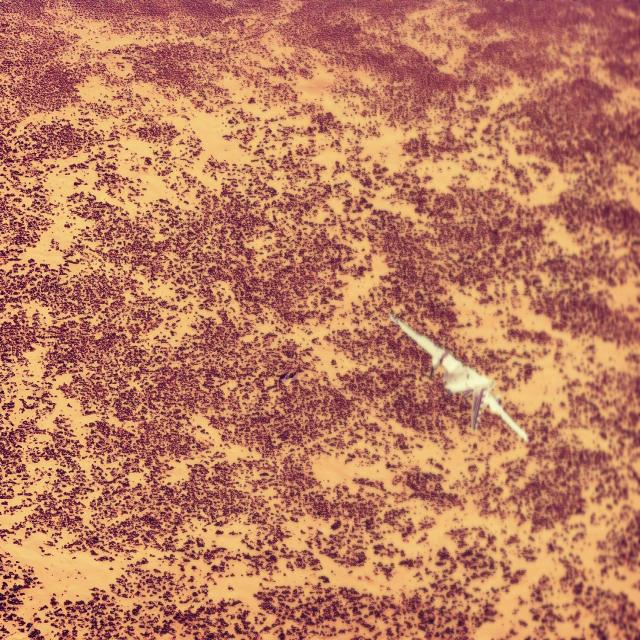airplane: (388, 311, 529, 445)
